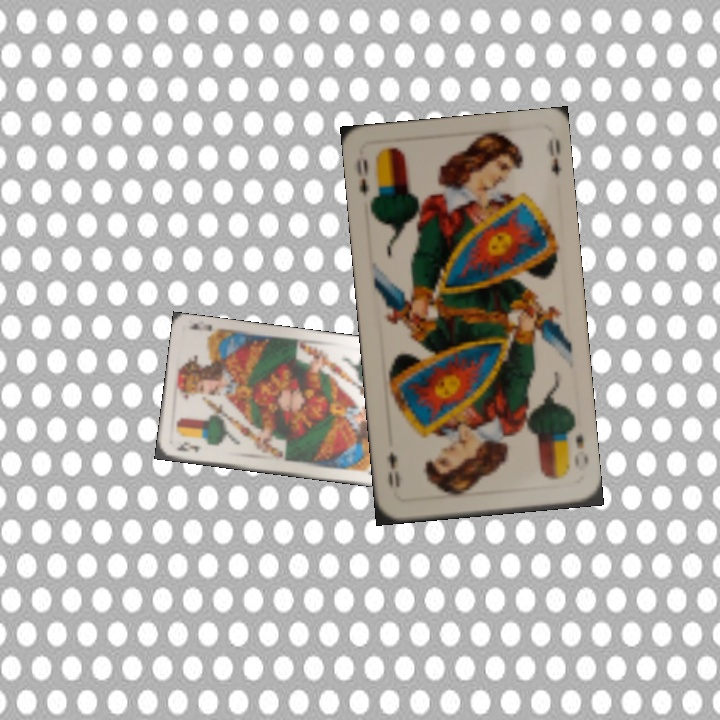EK: (172, 438, 204, 455)
EO: (570, 430, 591, 473), (352, 154, 371, 199)
